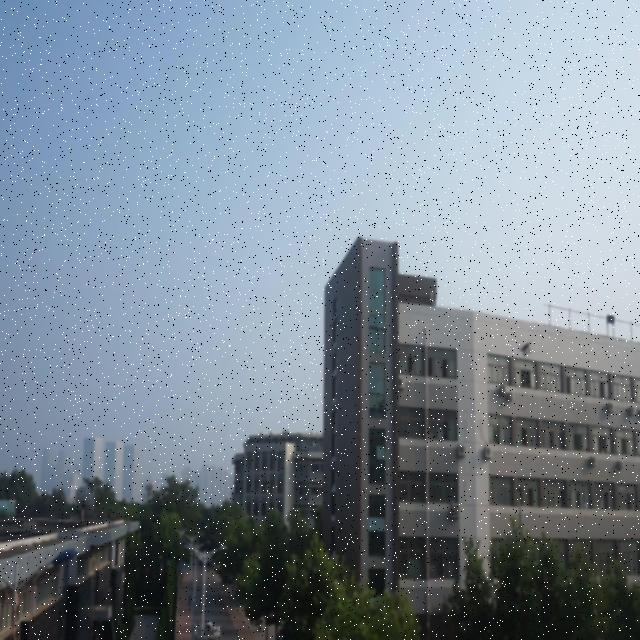UAV: (519, 340, 532, 358)
